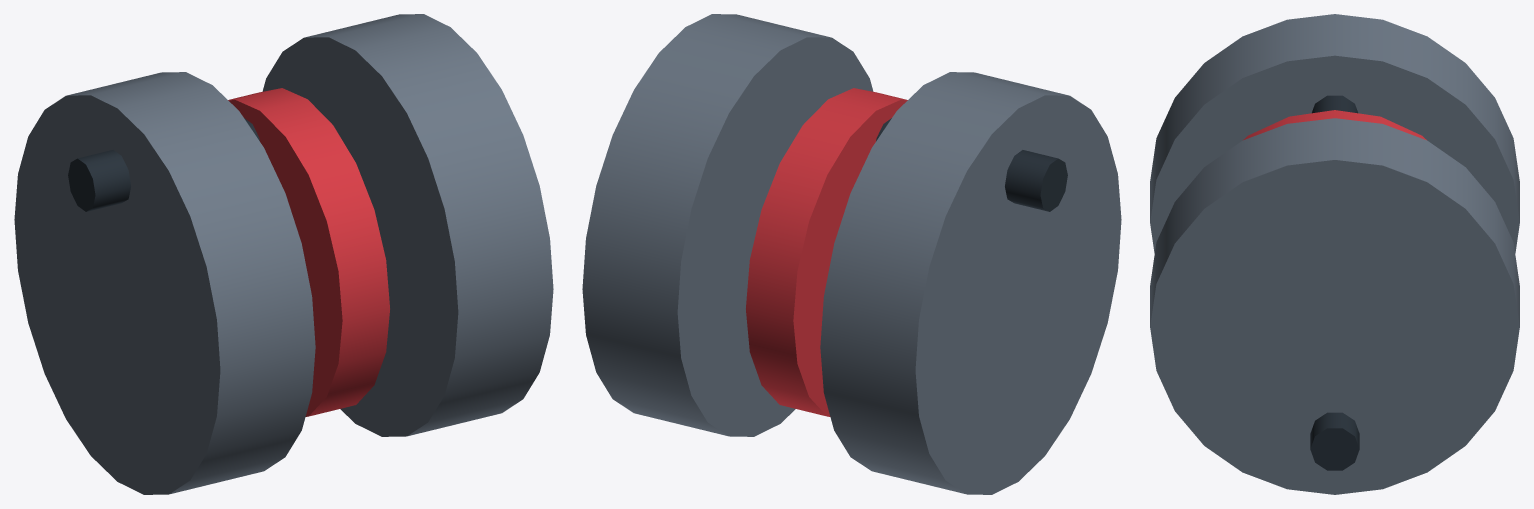
Rendered from coupling.glb.
The picture shows the model from 3 angles, left to right: view 1: azimuth 30°, elevation 25°; view 2: azimuth 150°, elevation 25°; view 3: azimuth 270°, elevation 25°; orthographic projection. The views are drawn at different scales.
Bounding box in the file's own units: 0.68 × 0.6 × 0.6.
